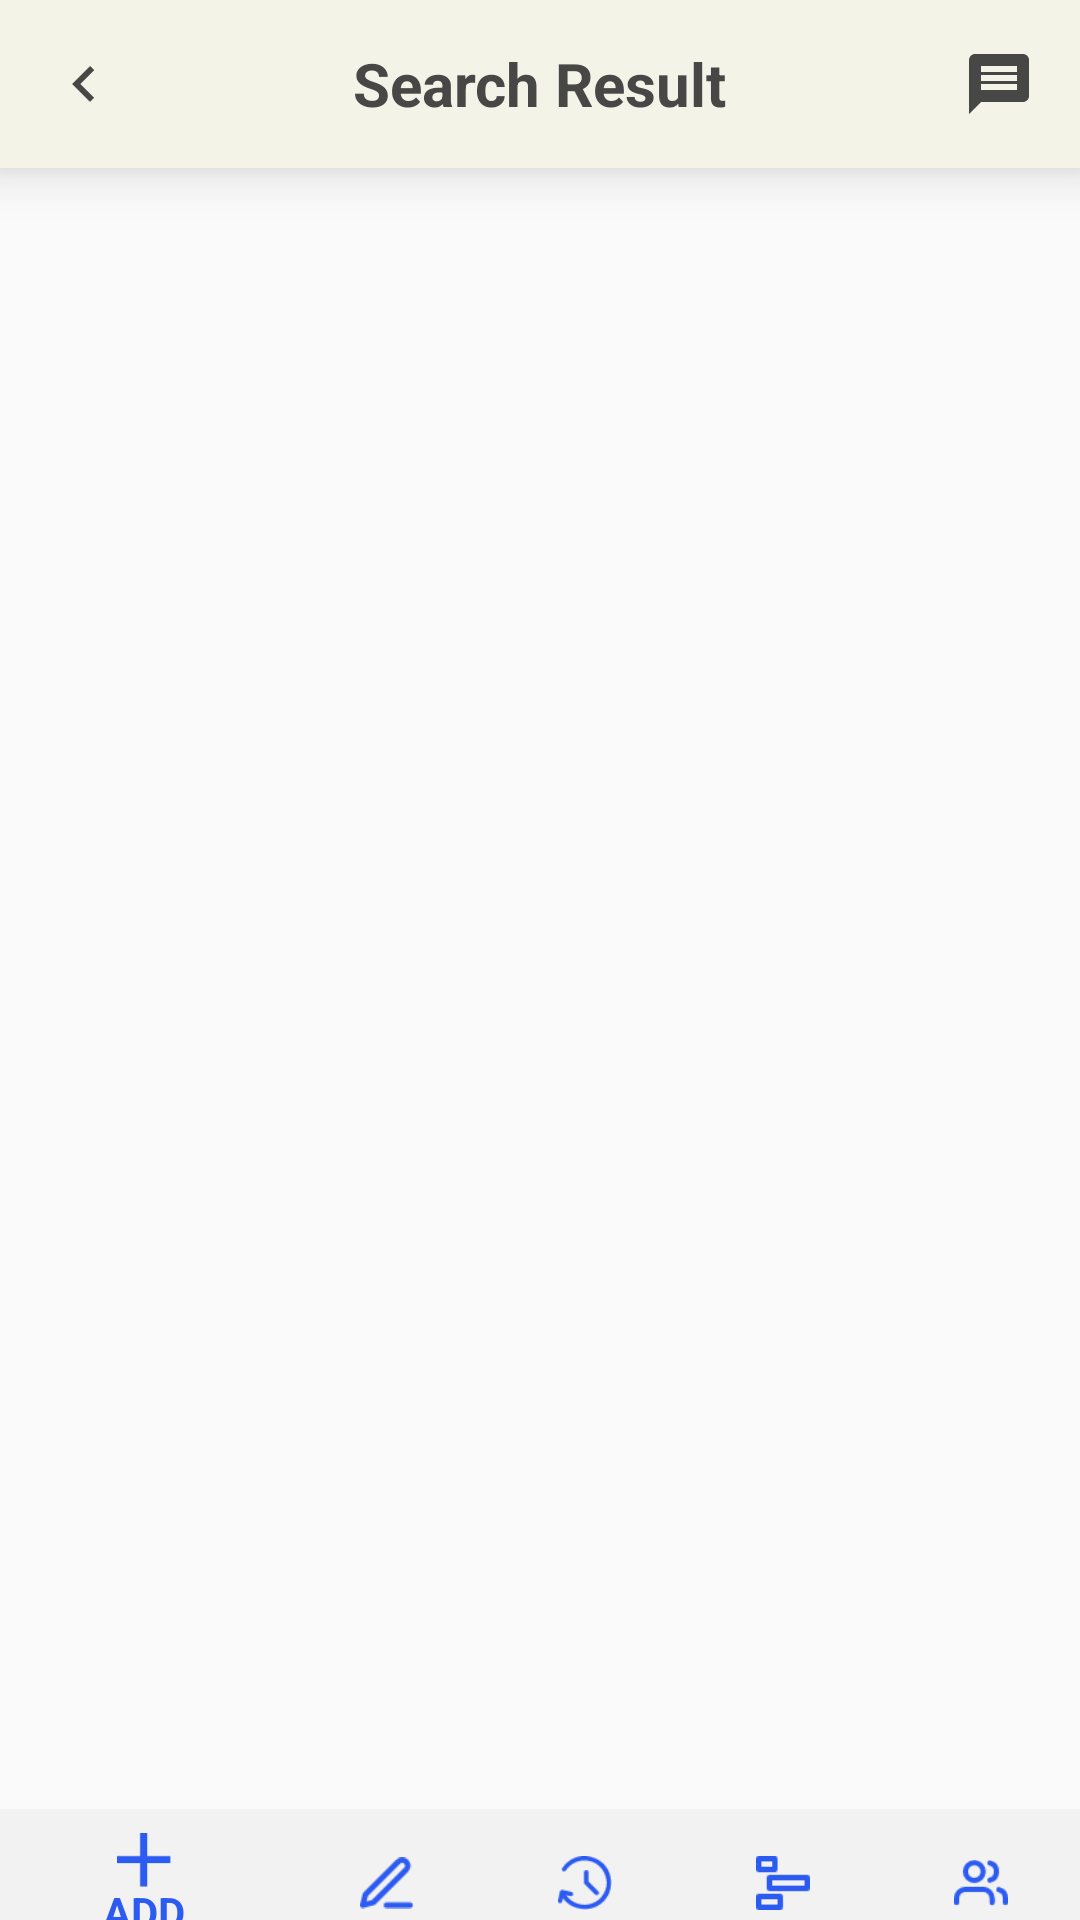

Icons on this 1080x1920 Android screen, each with its box as bbox=(x1, y1, x2, y2):
arrow left: bbox=(72, 66, 94, 102)
message: bbox=(969, 54, 1029, 114)
